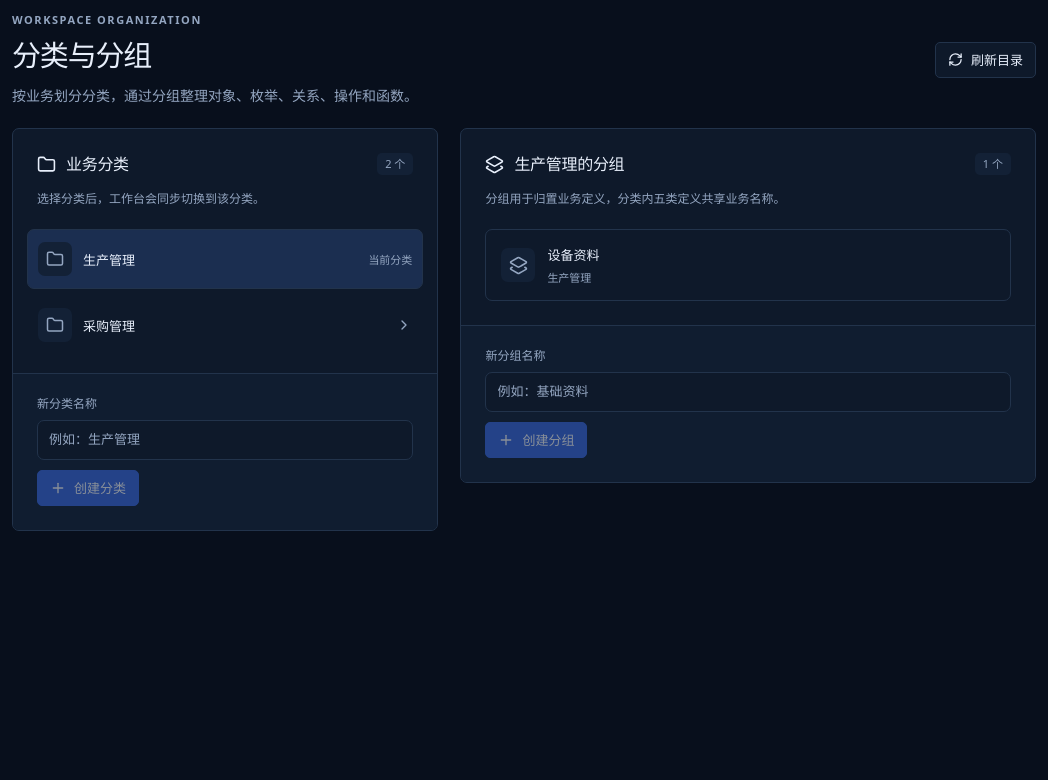
classification and definition-group management › creates a group only under the selected category and reloads that group directory
Expected: the text "设备资料" is shown, [547,245,599,264]
Type "  备件资料  " into the field labelled "新分组名称" at point(748, 392), box [485,372,1011,412]
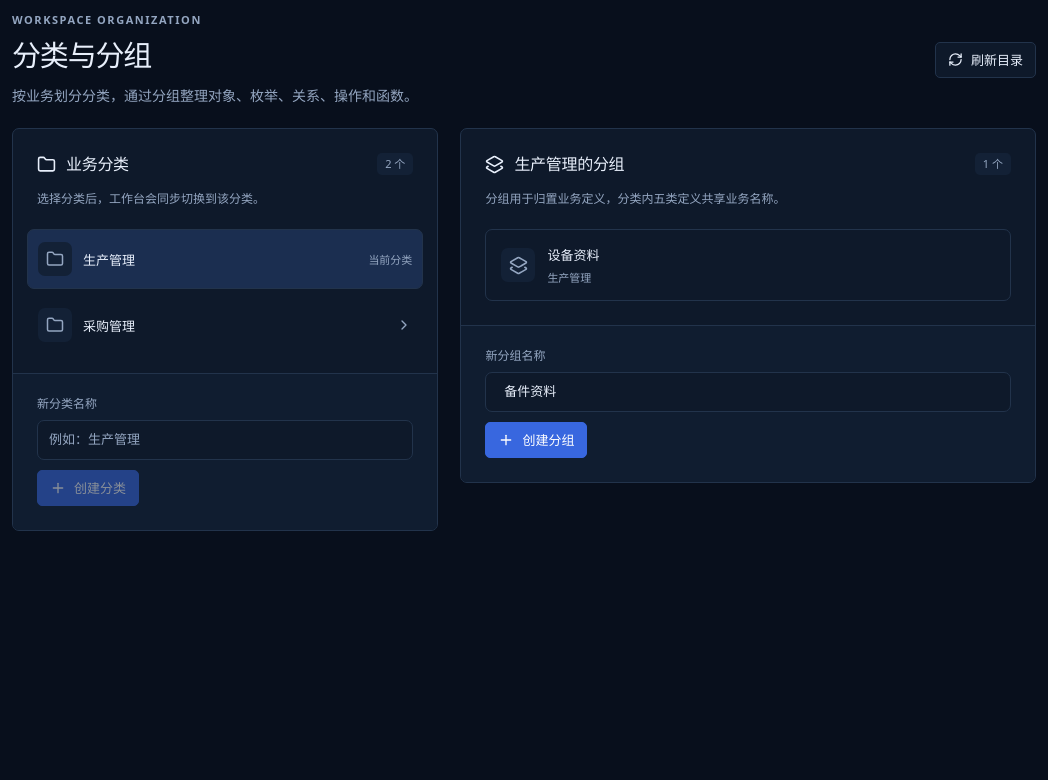
Click the button "创建分组" at point(536, 440), box [485,422,587,458]
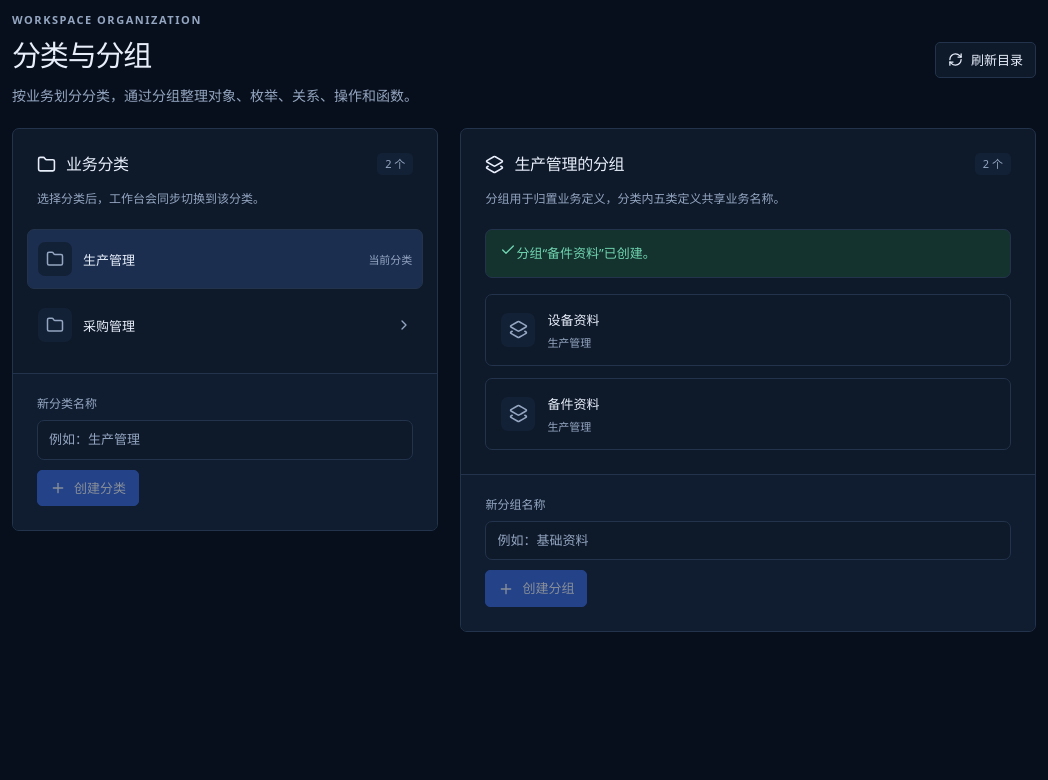
Expected: the text "备件资料" is shown, [547,394,599,413]
Expected: the field labelled "新分组名称" is empty, [485,521,1011,560]
Expected: the text "分组“备件资料”已创建。" is shown, [485,229,1011,278]
